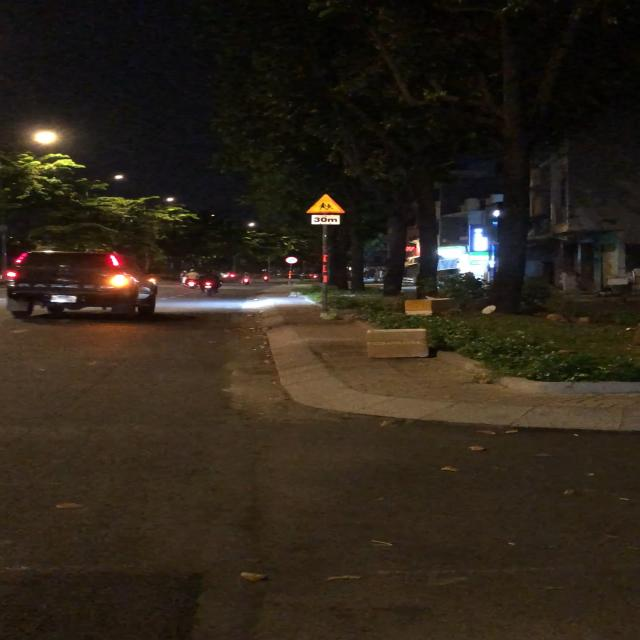Bien bao tre em: (302, 192, 346, 215)
